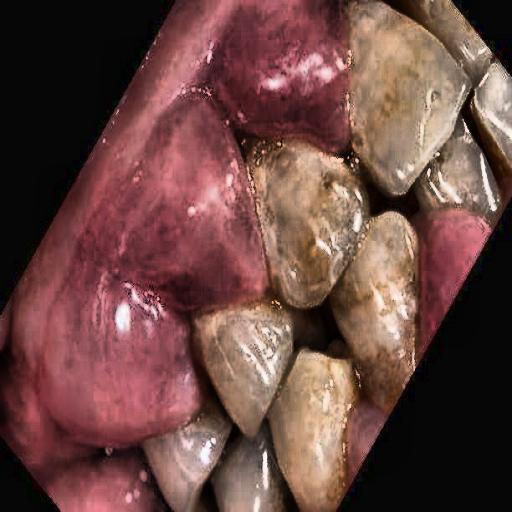Calculus: (203, 22, 440, 498)
